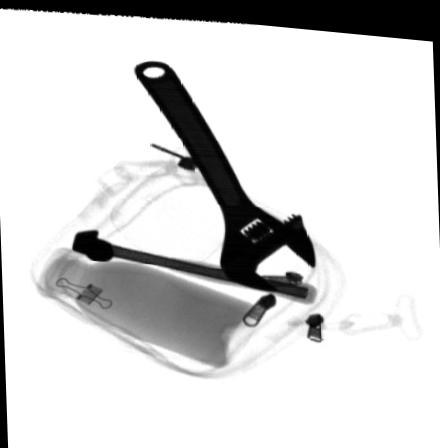Hammer: (71, 229, 318, 298)
Wrench: (134, 56, 316, 287)
